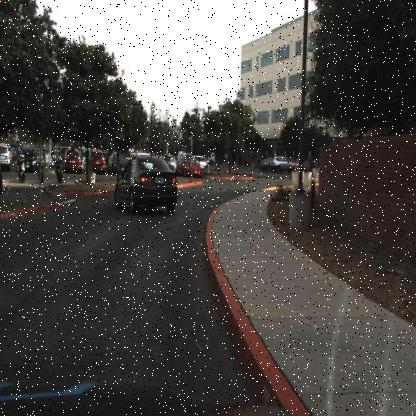car: (110, 147, 178, 219), (106, 151, 134, 178), (177, 152, 202, 181), (60, 146, 84, 176), (174, 154, 201, 180), (15, 145, 39, 174), (267, 153, 297, 174), (86, 146, 108, 174), (269, 153, 297, 174), (1, 140, 13, 174), (0, 142, 12, 172), (195, 152, 209, 174), (204, 150, 216, 168)
